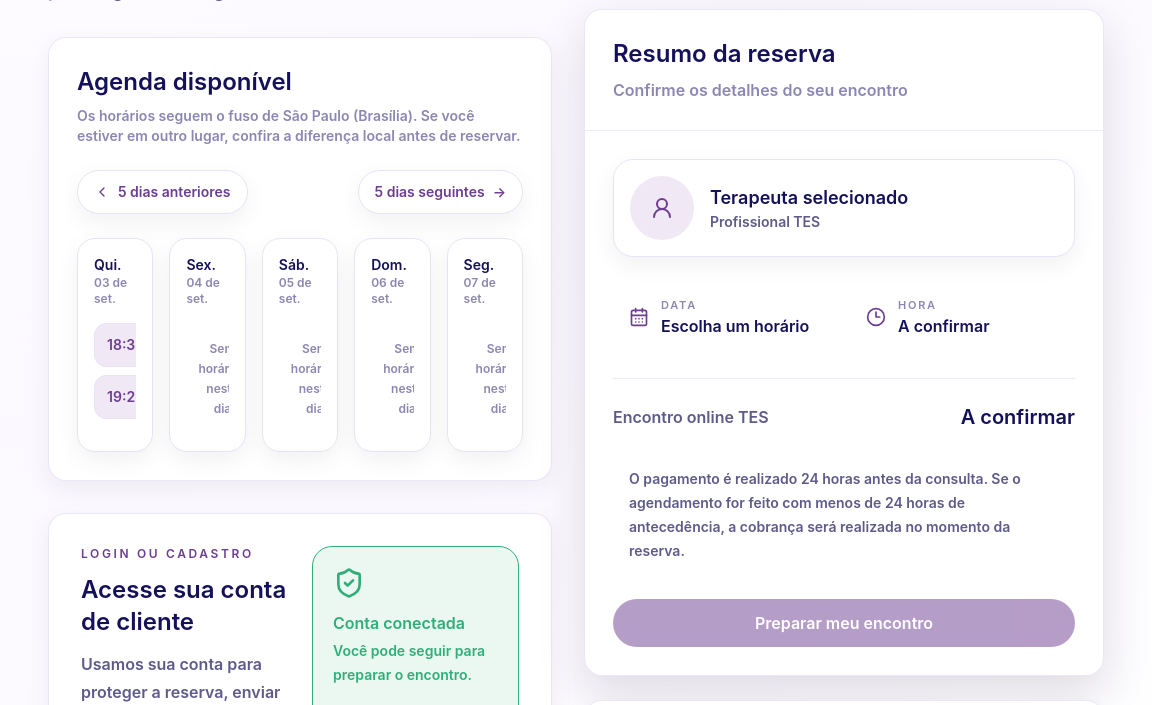
Test: ReservationPage › opens the conflict dialog without navigating while a consecutive slot remains selectable
(page scrolled)
Click the button named "18:30, coincide com outro encontro seu" at (126, 345), box [94,323,158,367]
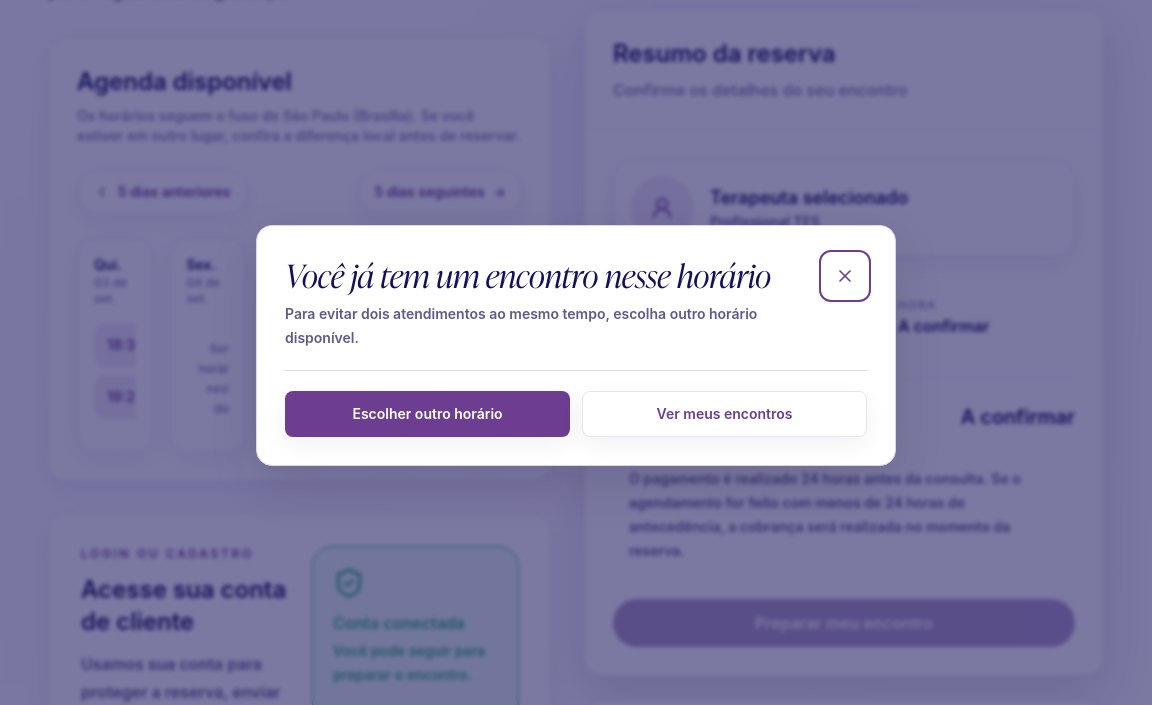
Expected: the link "19:20" is shown, [94,375,136,419]
Now the dialog "Você já tem um encontro nesse horário" is shown, box [256,224,896,466]
